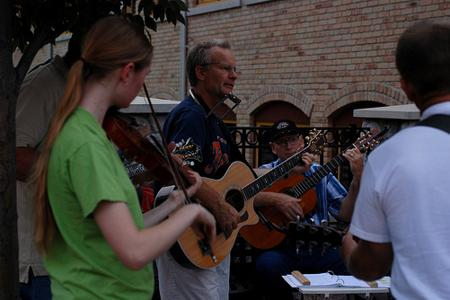person: (151, 40, 318, 300)
